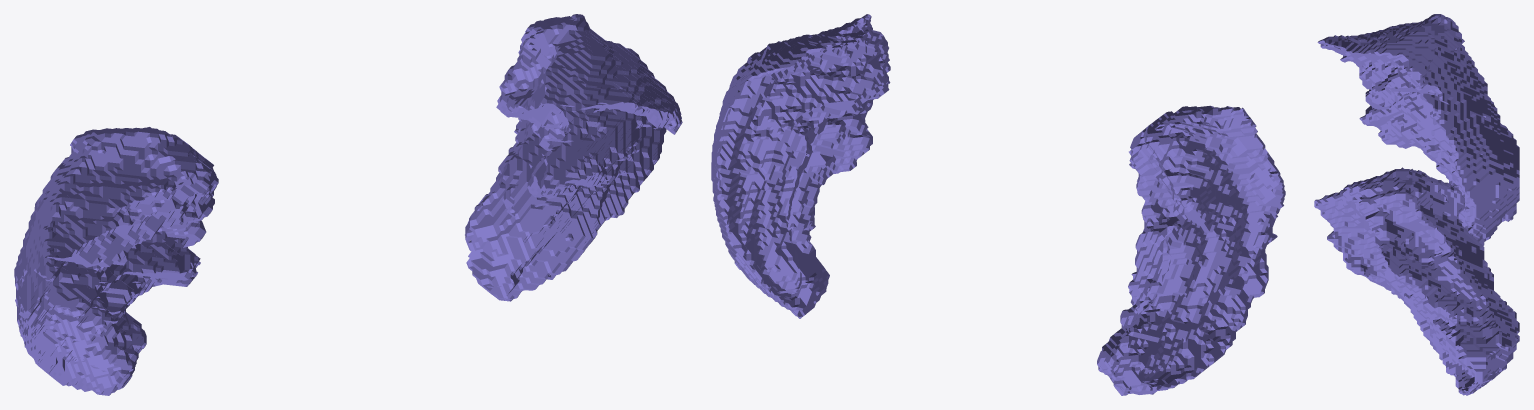
Rendered from region_0153_TSvl__ventrolateral_nucleus_of_semicircular_torus_.glb.
The picture shows the model from 3 angles, left to right: view 1: azimuth 30°, elevation 25°; view 2: azimuth 150°, elevation 25°; view 3: azimuth 270°, elevation 25°; orthographic projection. The views are drawn at different scales.
Parts seen in each view (by area): view 1: world; view 2: world; view 3: world.
Boxes of the visible parts, <box> form: world: <box>14,14,682,395</box>; world: <box>711,14,1285,395</box>; world: <box>1314,14,1519,395</box>.
Bounding box in the file's own units: 1.37 × 0.608 × 0.512.
